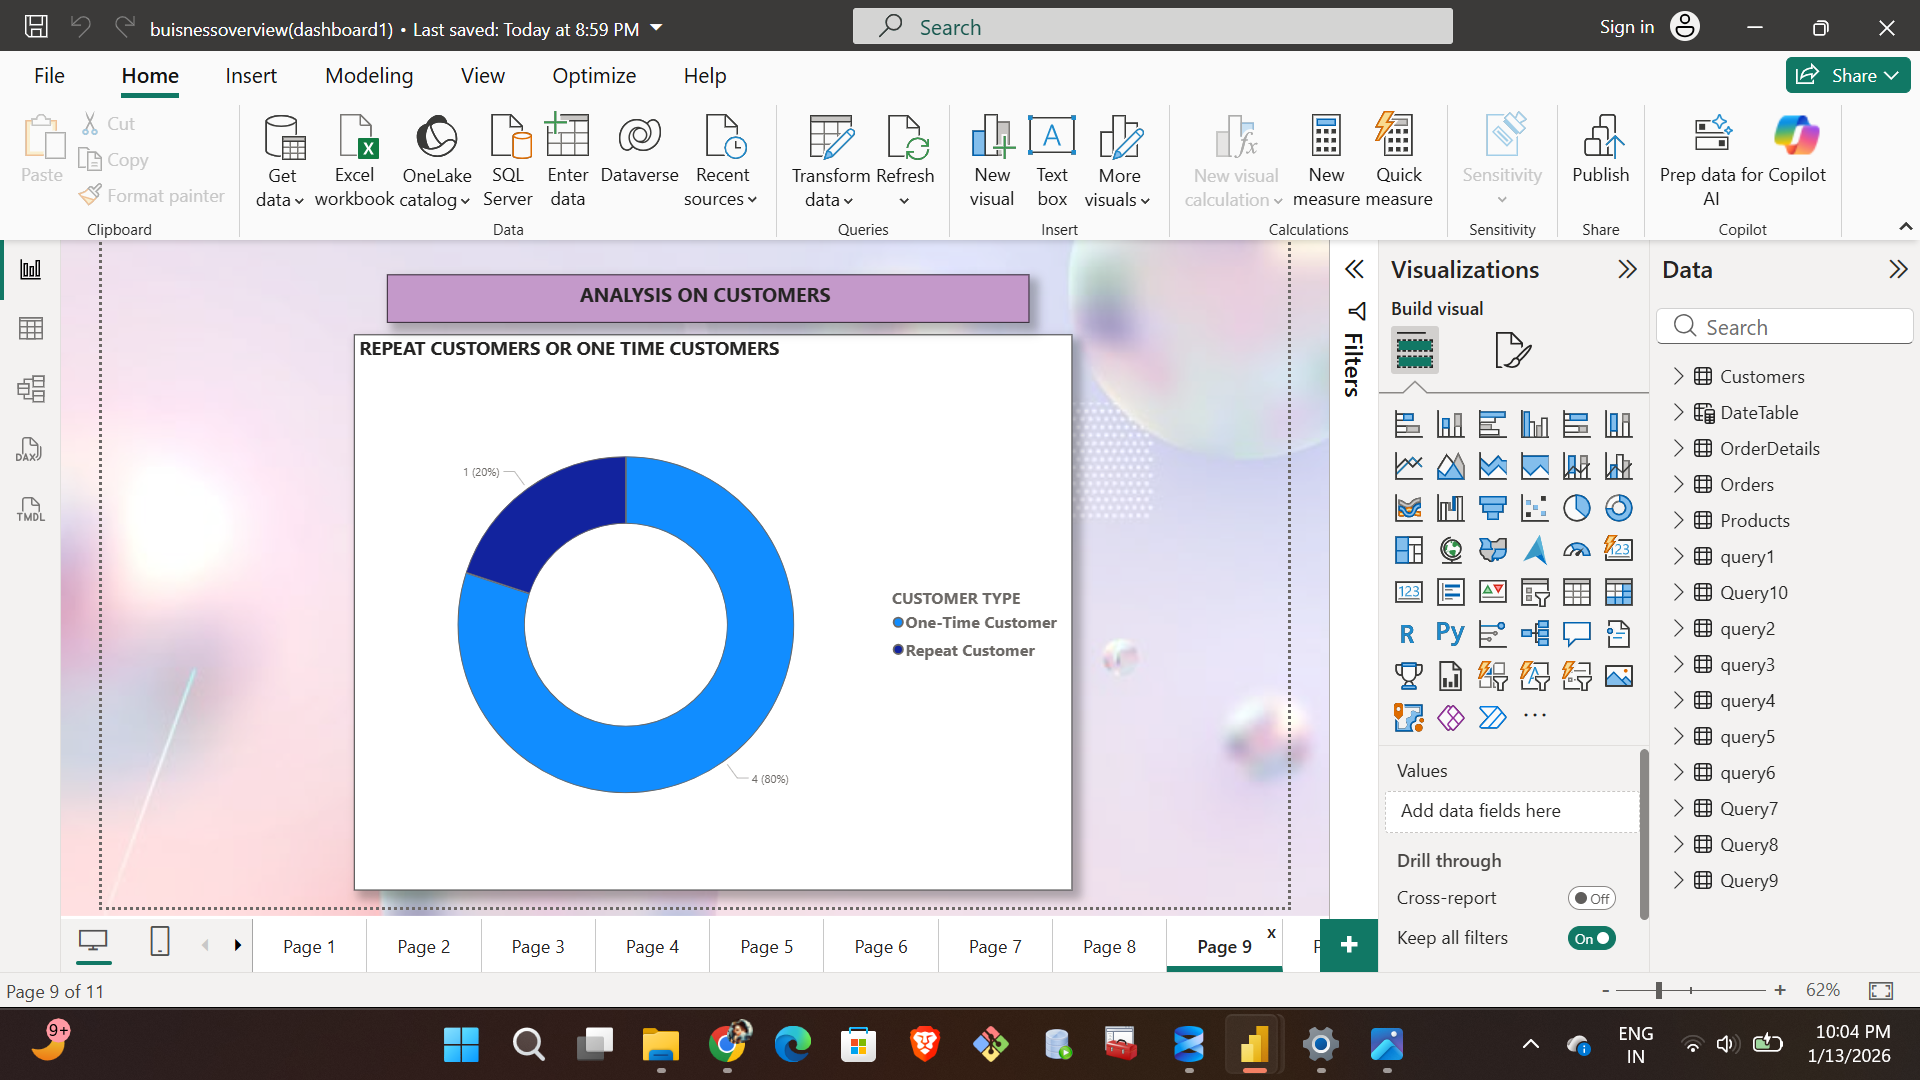

Layout of this report page (visuals, bound fields, positions):
{"tool":"powerbi","page":{"name":"Page 9","canvas":[1280,720],"ordinal":8},"visuals":[{"type":"donutChart","title":"REPEAT CUSTOMERS OR ONE TIME CUSTOMERS","fields":{"Category":["Query8.CustomerType"],"Y":["Sum(Query8.TotalCustomers)"]},"box":[271.7,101.7,775,600],"z":0},{"type":"textbox","box":[308.3,36.7,693.3,51.7],"z":1}]}

Visuals, with their boxes on the page's 1280x720 design canvas (x1, y1, x2, y2). These are canvas units, not pixel positions in the 1920x1080 screenshot, which may show the page scaled, cropped or inside an application window:
"REPEAT CUSTOMERS OR ONE TIME CUSTOMERS" donutChart: (left=272, top=102, right=1047, bottom=702)
textbox: (left=308, top=37, right=1002, bottom=88)
